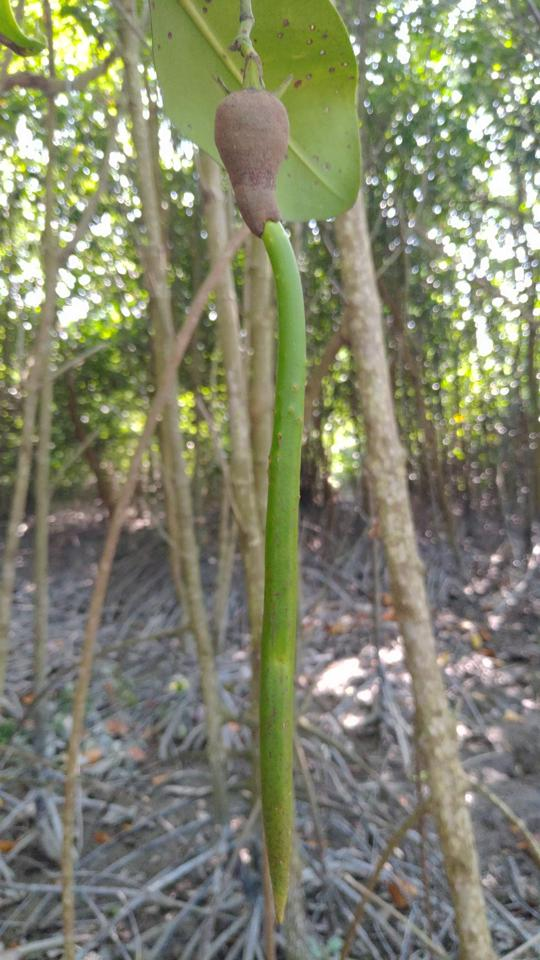mentah: (186, 66, 349, 933)
